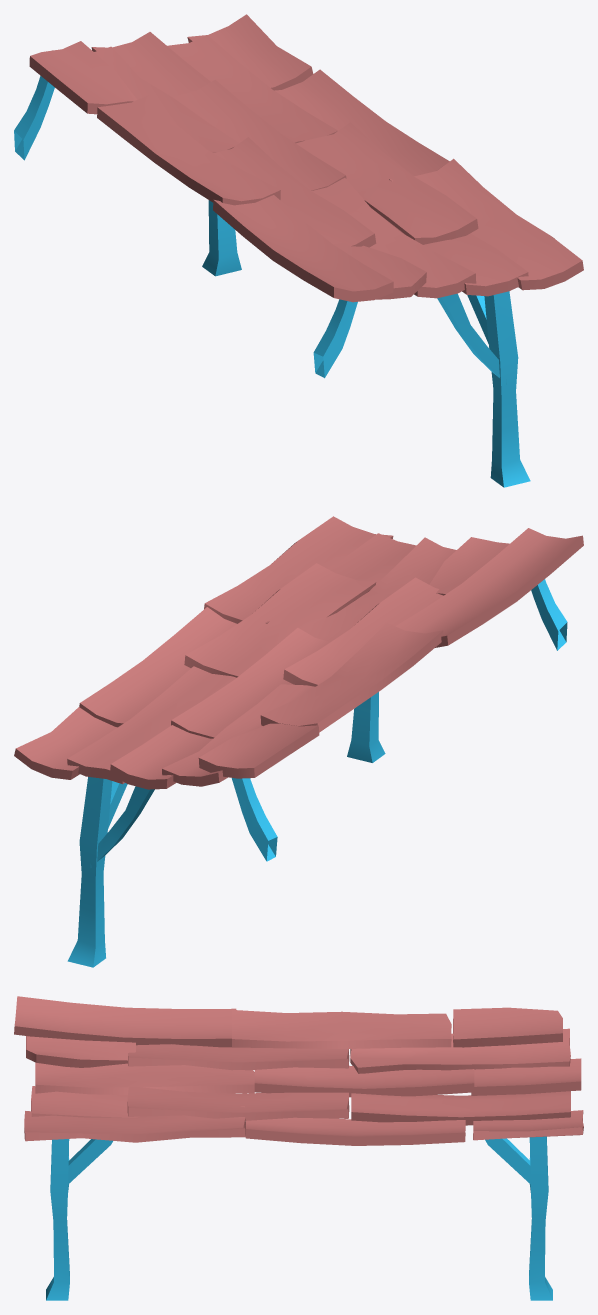
File: Single_roof.fbx
3 views of the same model, one above another, from view 1: azimuth 30°, elevation 25°; view 2: azimuth 150°, elevation 25°; view 3: azimuth 270°, elevation 25° (orthographic). The views are drawn at different scales.
Parts seen in each view (by area): view 1: Single_roof (3); view 2: Single_roof (3); view 3: Single_roof (3).
Part boxes in pixels (x1,y1,x2,y2): Single_roof (3): (14, 14, 583, 487); Single_roof (3): (14, 516, 583, 967); Single_roof (3): (14, 996, 583, 1300).
Size of the model in its own units: 444 by 422 by 1004.
